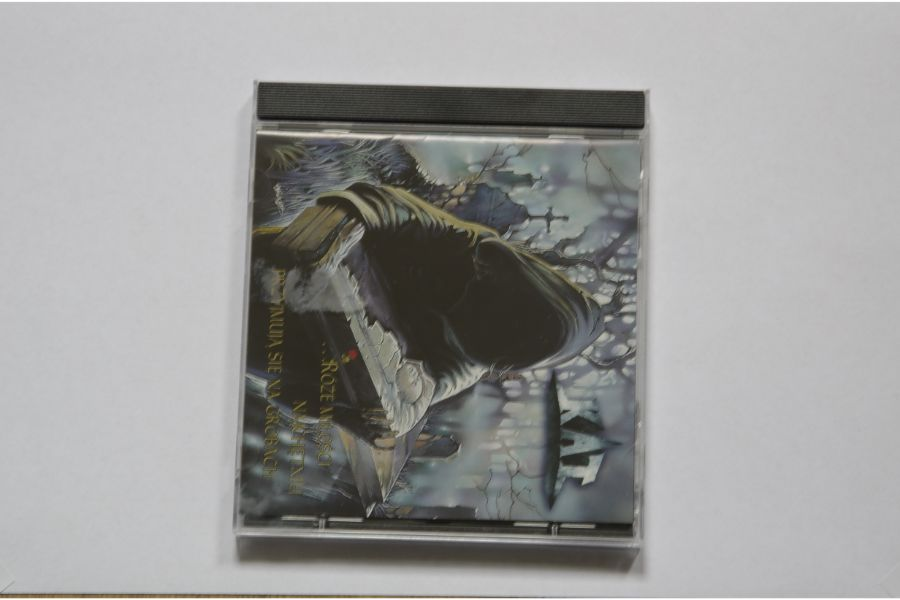album: (233, 78, 645, 554)
